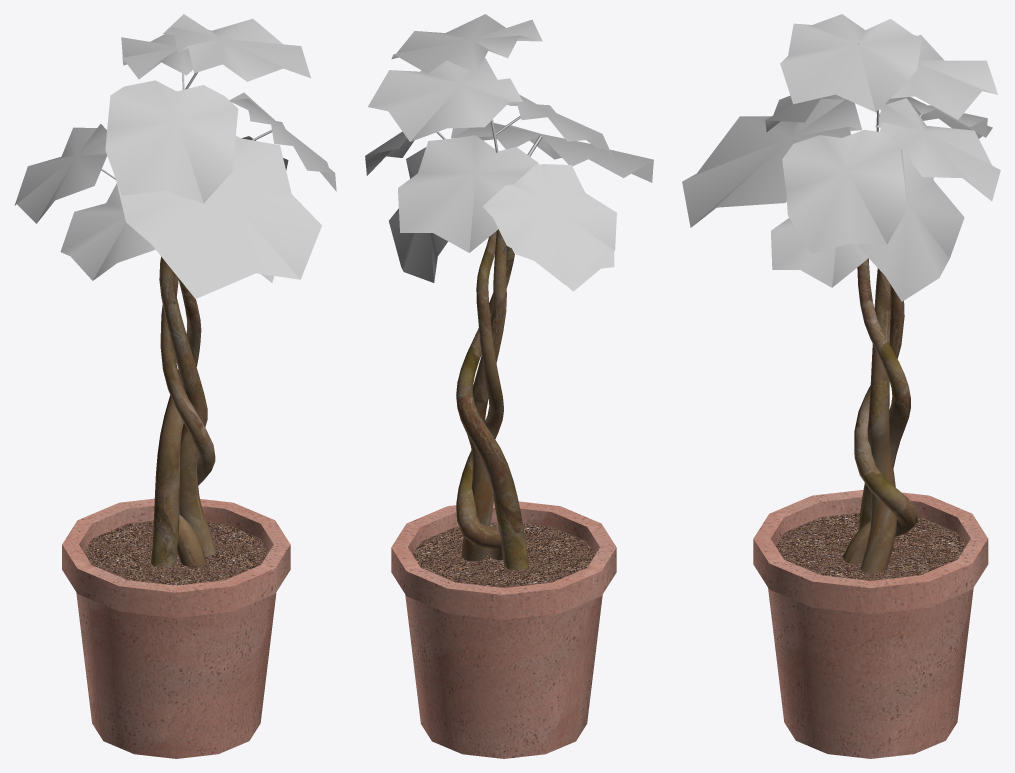
The model's file is pachira.fbx.
The picture shows the model from 3 angles, left to right: view 1: azimuth 30°, elevation 25°; view 2: azimuth 150°, elevation 25°; view 3: azimuth 270°, elevation 25°; orthographic projection. The views are drawn at different scales.
Visible parts, largest first — view 1: pachira, pachira_leaves.001; view 2: pachira, pachira_leaves.001; view 3: pachira, pachira_leaves.001.
Part boxes in pixels (x1,y1,x2,y2): pachira: (62, 256, 290, 758); pachira_leaves.001: (14, 14, 336, 298); pachira: (391, 229, 616, 758); pachira_leaves.001: (365, 14, 653, 291); pachira: (753, 258, 988, 758); pachira_leaves.001: (682, 14, 1000, 301).
Bounding box in the file's own units: 37.52 × 92.38 × 37.75.
